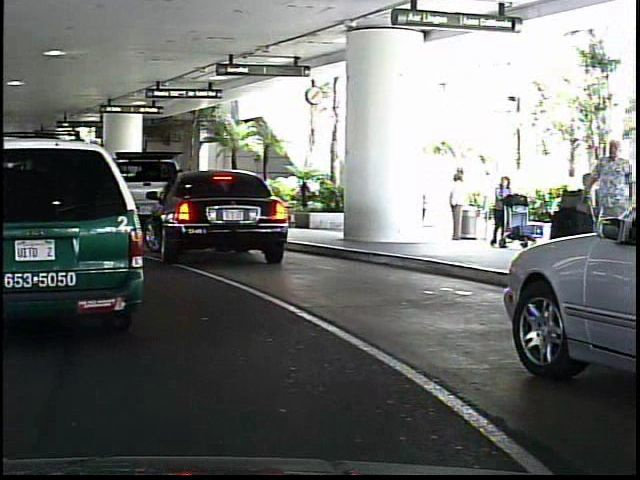person: (577, 132, 628, 289), (482, 173, 513, 255)
